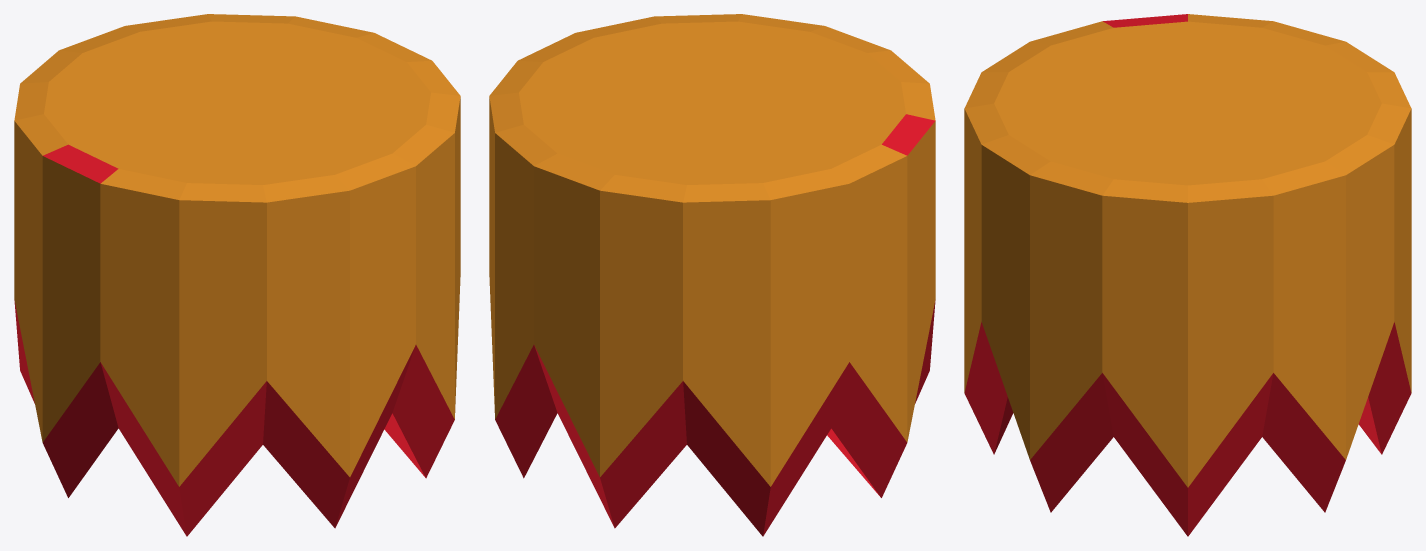
Rendered from SM_Super_Boost_Thruster_Flame.fbx.
3 renders of one model, left to right at view 1: azimuth 30°, elevation 25°; view 2: azimuth 150°, elevation 25°; view 3: azimuth 270°, elevation 25°, orthographic.
Visible parts, largest first — view 1: Super Boost Thruster Flame; view 2: Super Boost Thruster Flame; view 3: Super Boost Thruster Flame.
Part boxes in pixels (box(x1,y1,x2,y2)): Super Boost Thruster Flame: box(14, 14, 460, 536); Super Boost Thruster Flame: box(489, 14, 935, 536); Super Boost Thruster Flame: box(964, 14, 1411, 536).
Size of the model in its own units: 23.84 by 20.69 by 23.84.
